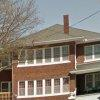Chimney: (54, 11, 78, 36)
